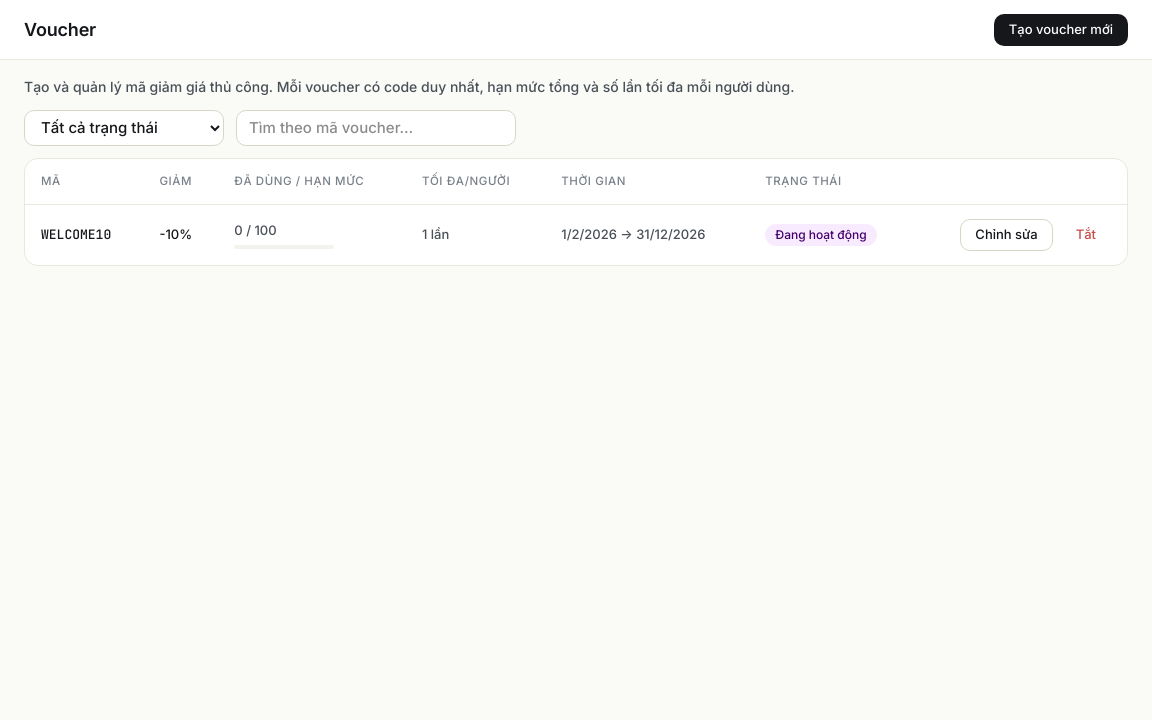
Test case: AdminVouchersPage › opens the detail drawer when a row is clicked and shows usages
expect the row with test id "admin-vouchers-row-v-1" is shown: met, box [25, 204, 1127, 265]
Click the button with test id "admin-vouchers-row-open-v-1" at (76, 235), box [41, 225, 111, 245]
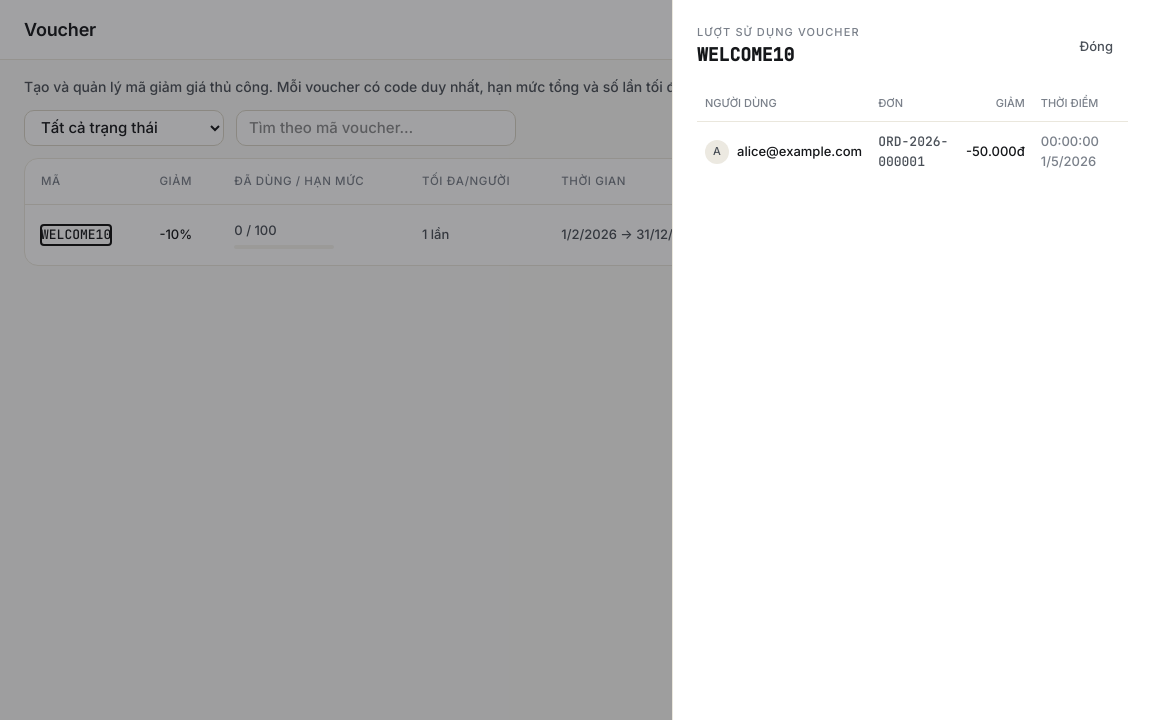
expect the dialog with test id "admin-vouchers-drawer" is shown: met
expect the dialog with test id "admin-vouchers-drawer" shows "alice@example.com": met, box [737, 143, 862, 159]
expect the dialog with test id "admin-vouchers-drawer" shows "ORD-2026-000001": met, box [878, 133, 948, 170]
